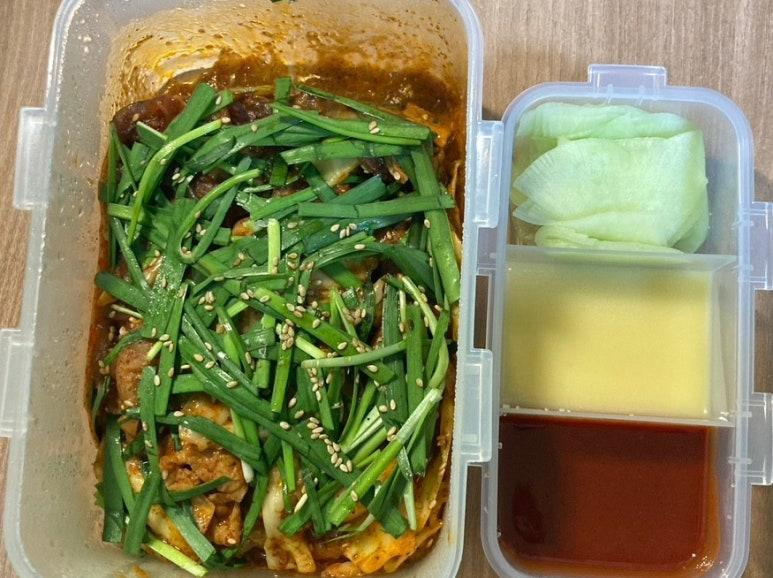Lunch Box: (0, 0, 492, 577), (417, 65, 772, 577)
